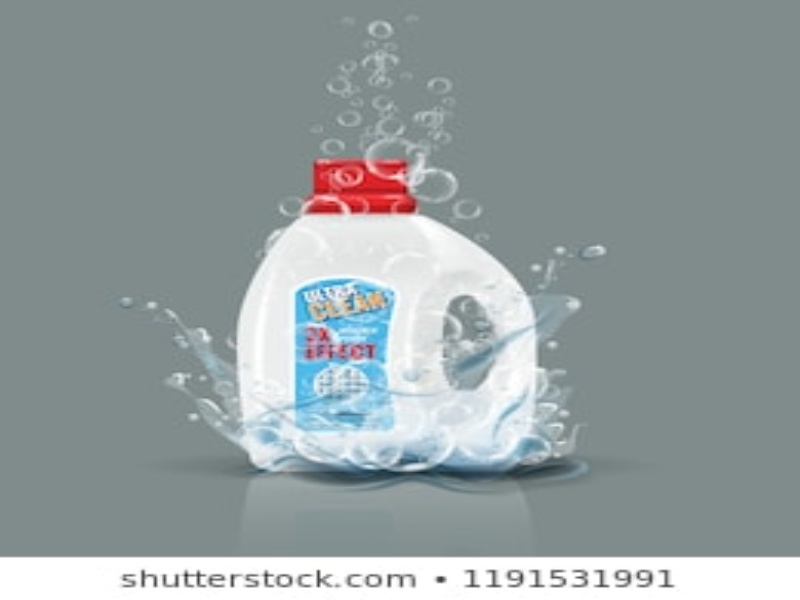detergent-bottle: (228, 157, 545, 474)
